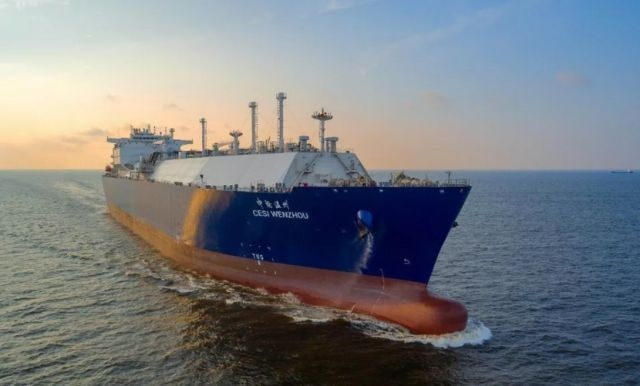Cargoship: (98, 95, 474, 339)
